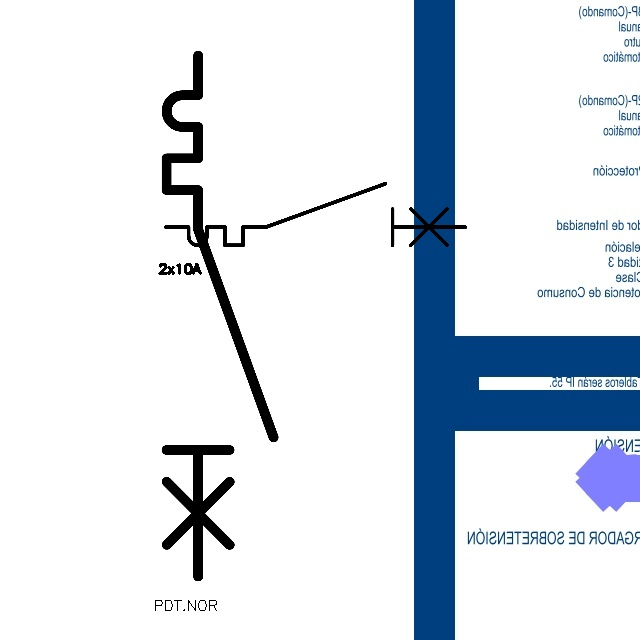interruptor_termomagnetico: (153, 42, 287, 589), (158, 176, 473, 253)
